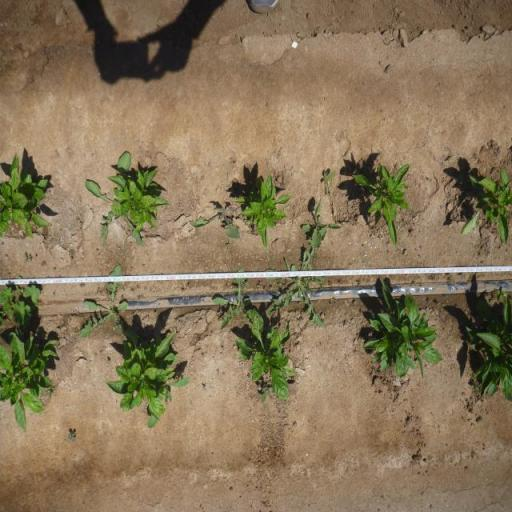plant: (359, 278, 444, 383), (0, 332, 64, 436), (233, 310, 301, 402), (351, 160, 414, 250), (112, 332, 178, 417), (0, 152, 54, 240), (236, 170, 294, 250), (459, 301, 512, 387), (461, 166, 512, 248), (111, 168, 171, 234)
weed: (262, 242, 330, 326), (77, 265, 129, 340), (214, 268, 252, 332), (1, 276, 44, 332), (188, 203, 240, 240), (300, 202, 342, 244), (319, 169, 336, 198), (256, 382, 272, 404), (488, 288, 506, 304), (67, 430, 77, 444), (470, 382, 481, 394), (22, 253, 33, 264), (47, 386, 54, 401), (328, 297, 338, 307), (446, 273, 455, 284), (430, 272, 438, 282), (186, 278, 192, 290), (96, 286, 103, 296), (257, 279, 263, 290), (352, 298, 358, 308), (328, 278, 334, 287), (40, 260, 47, 267), (78, 282, 86, 288), (128, 288, 136, 294), (180, 286, 186, 294), (356, 278, 362, 286), (262, 285, 268, 292), (411, 279, 418, 285), (202, 384, 207, 392), (138, 294, 144, 300), (106, 358, 111, 364), (270, 285, 275, 291), (225, 242, 230, 248), (122, 244, 127, 250)
